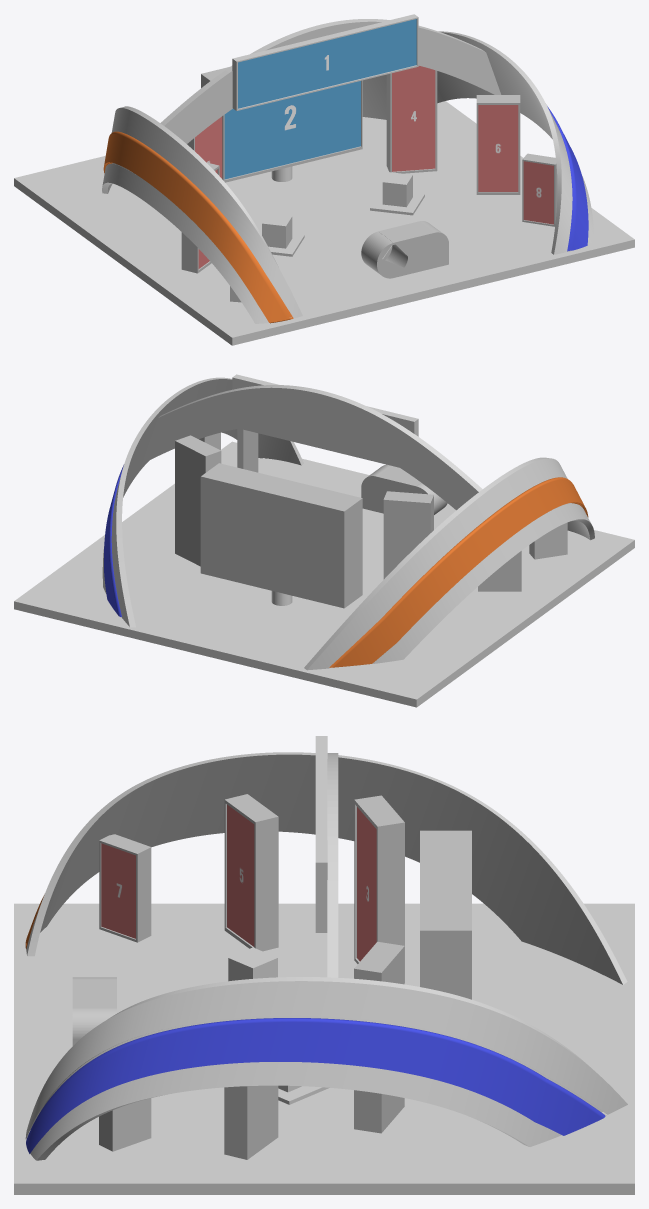
File: stall P1.fbx
The picture shows the model from 3 angles, top to bottom: view 1: azimuth 30°, elevation 25°; view 2: azimuth 150°, elevation 25°; view 3: azimuth 270°, elevation 25°; orthographic projection. The views are drawn at different scales.
Parts seen in each view (by area): view 1: floor, white layer, 2, black gradient, 1, emission orange, light layer, 4, 6, 8, emission blue, 3; view 2: floor, white layer, black gradient, emission orange, light layer, emission blue; view 3: floor, white layer, black gradient, emission blue, light layer, 5, 7, 3.
Boxes of the visible parts, x1,y1,x2,y2 form: floor: (14,101,634,345); white layer: (102,19,594,323); 2: (224,81,360,179); black gradient: (181,67,557,302); 1: (238,19,416,108); emission orange: (103,131,293,323); light layer: (14,14,634,344); 4: (392,66,435,171); 6: (478,105,518,191); 8: (523,161,553,224); emission blue: (547,106,588,251); 3: (195,116,222,178); floor: (14,441,634,707); white layer: (102,377,594,670); black gradient: (175,428,567,608); emission orange: (329,477,588,667); light layer: (14,374,634,705); emission blue: (104,465,123,616); floor: (14,903,634,1194); white layer: (25,752,627,1160); black gradient: (72,794,471,1159); emission blue: (26,1018,605,1153); light layer: (14,736,634,1192); 5: (227,804,254,946); 7: (101,843,135,938); 3: (357,807,376,961).
Bounding box in the file's own units: 1089 × 486 × 1021.
